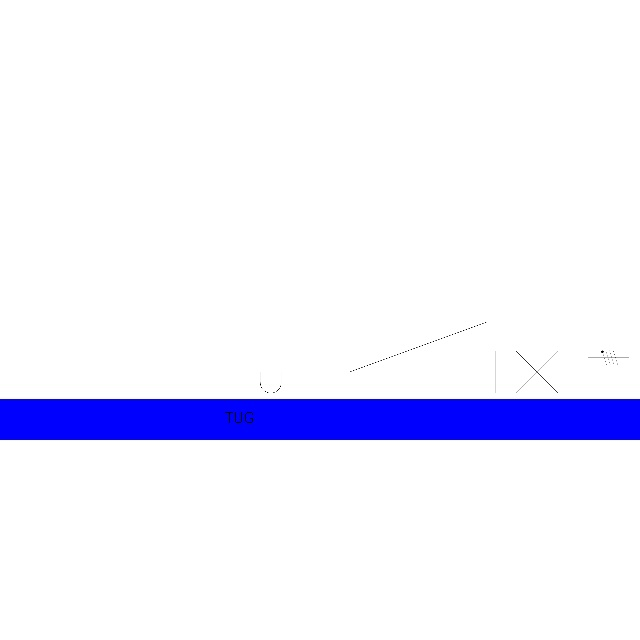interruptor_termomagnetico: (225, 313, 588, 402)
